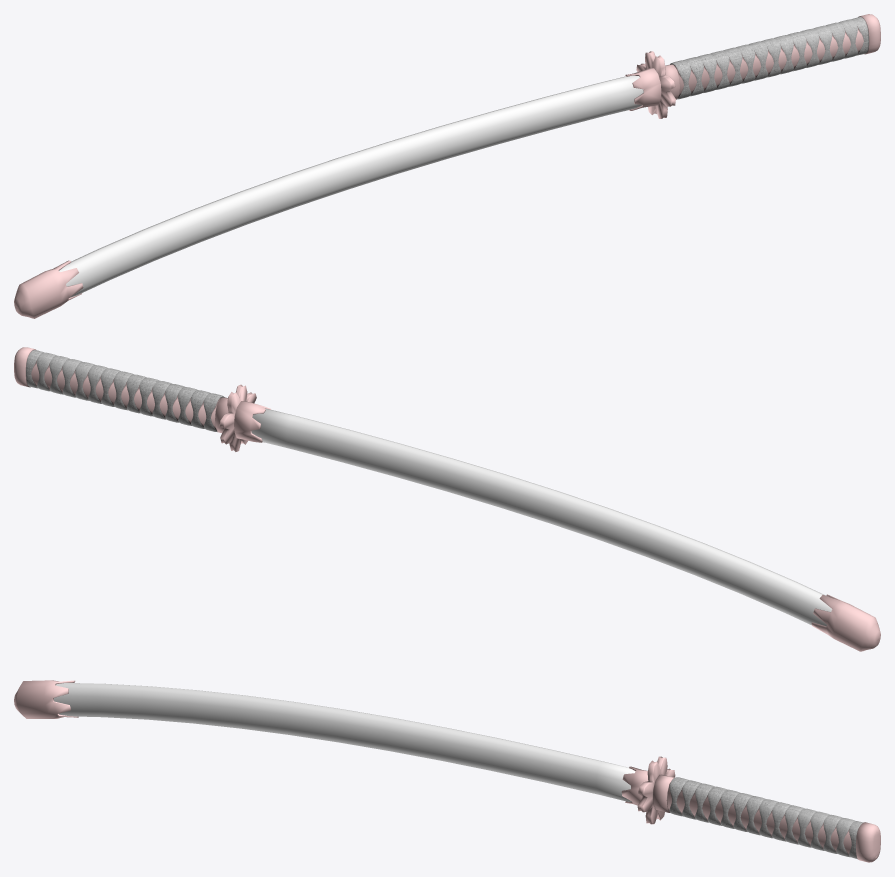
Rendered from Katana21.glb.
The picture shows the model from 3 angles, top to bottom: view 1: azimuth 30°, elevation 25°; view 2: azimuth 150°, elevation 25°; view 3: azimuth 330°, elevation 25°; orthographic projection.
Visible parts, largest first — view 1: Uploads Files 54209 Tsuba.002, Retopo_Handle Cloth.003; view 2: Uploads Files 54209 Tsuba.002, Retopo_Handle Cloth.003; view 3: Uploads Files 54209 Tsuba.002, Retopo_Handle Cloth.003.
Boxes of the visible parts, bbox=[...] form: Uploads Files 54209 Tsuba.002: bbox=[14, 68, 661, 318]; Retopo_Handle Cloth.003: bbox=[636, 14, 880, 118]; Uploads Files 54209 Tsuba.002: bbox=[234, 401, 880, 651]; Retopo_Handle Cloth.003: bbox=[14, 347, 256, 451]; Uploads Files 54209 Tsuba.002: bbox=[14, 680, 648, 805]; Retopo_Handle Cloth.003: bbox=[637, 756, 880, 862].
Bounding box in the file's own units: 1.04 × 0.1284 × 0.0712.
2 materials, 2 textured.
